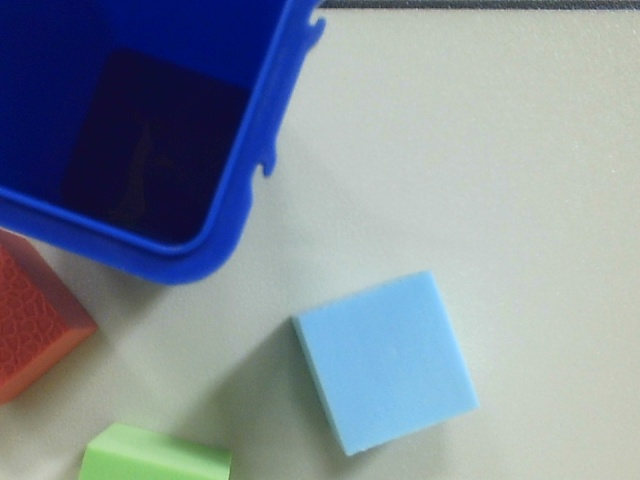greencube: (68, 421, 244, 480)
